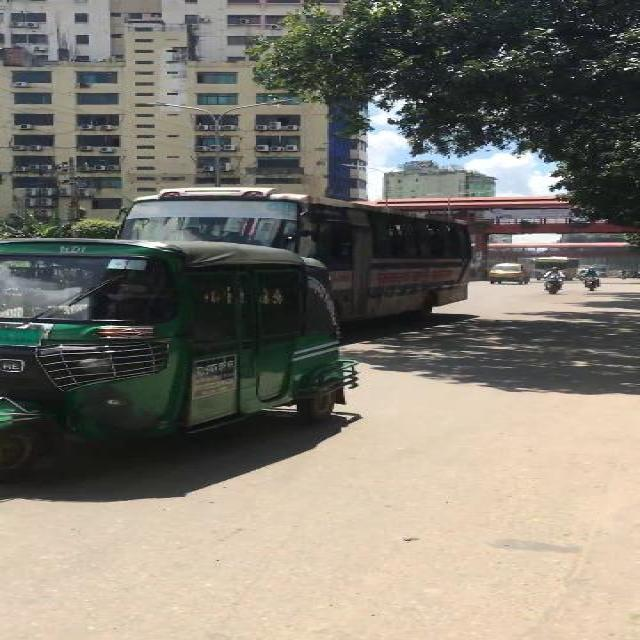bus: (109, 183, 471, 328), (532, 254, 578, 279)
motorcycle: (0, 232, 361, 485), (540, 266, 566, 294), (580, 265, 599, 290)
truck: (485, 261, 528, 284)
